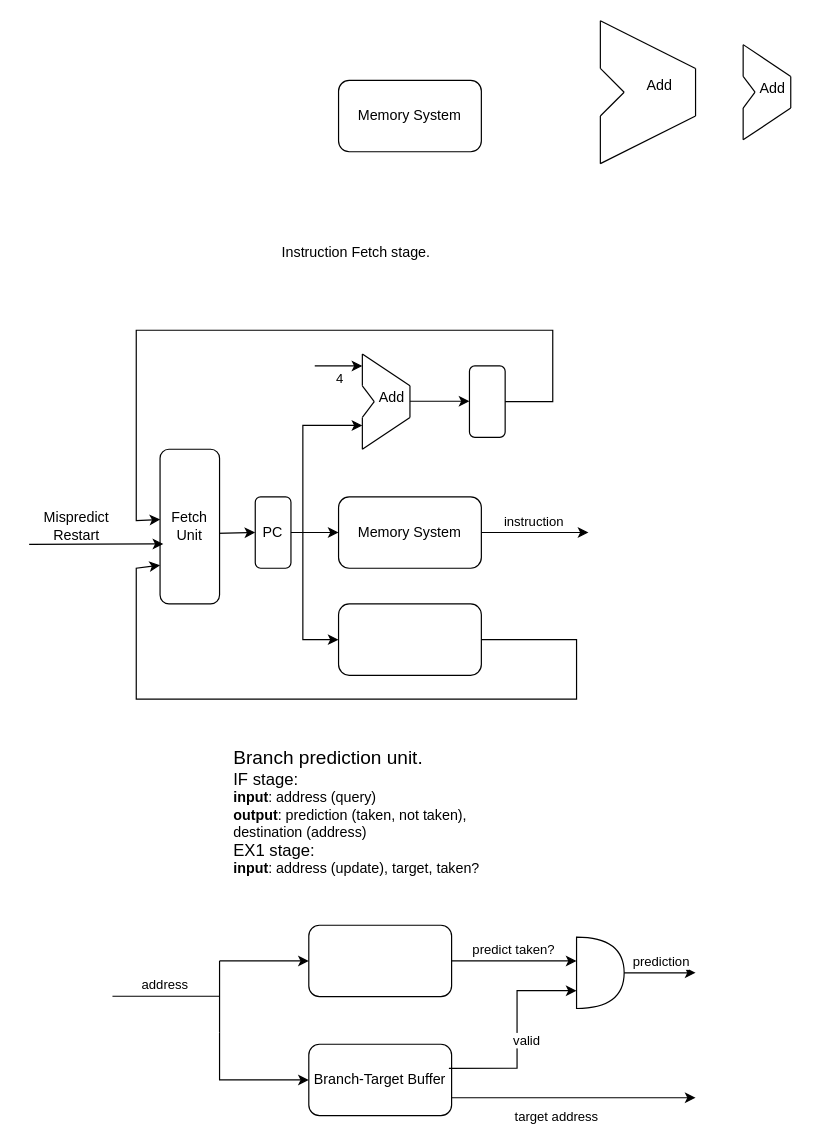
The diagram is 813 pixels wide and 1145 high, and some of its shapes have lost their labels. The shapes that lost their labels are listed below. From the top down, each one's box as (x1, y1, x2, y2) in pixels, then its label:
(468, 365, 505, 437): NPC
(337, 603, 481, 675): Branch Prediction Unit
(308, 924, 452, 997): Saturating 2-bit predictors
